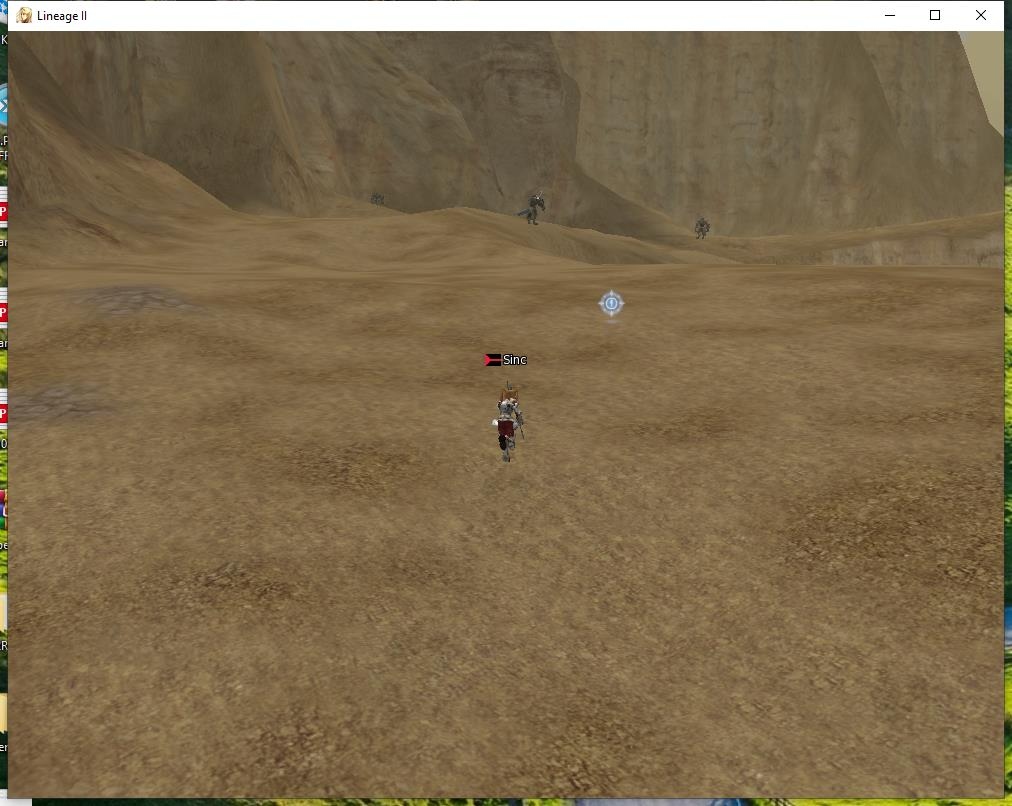monster: (511, 182, 551, 232), (690, 217, 722, 246)
